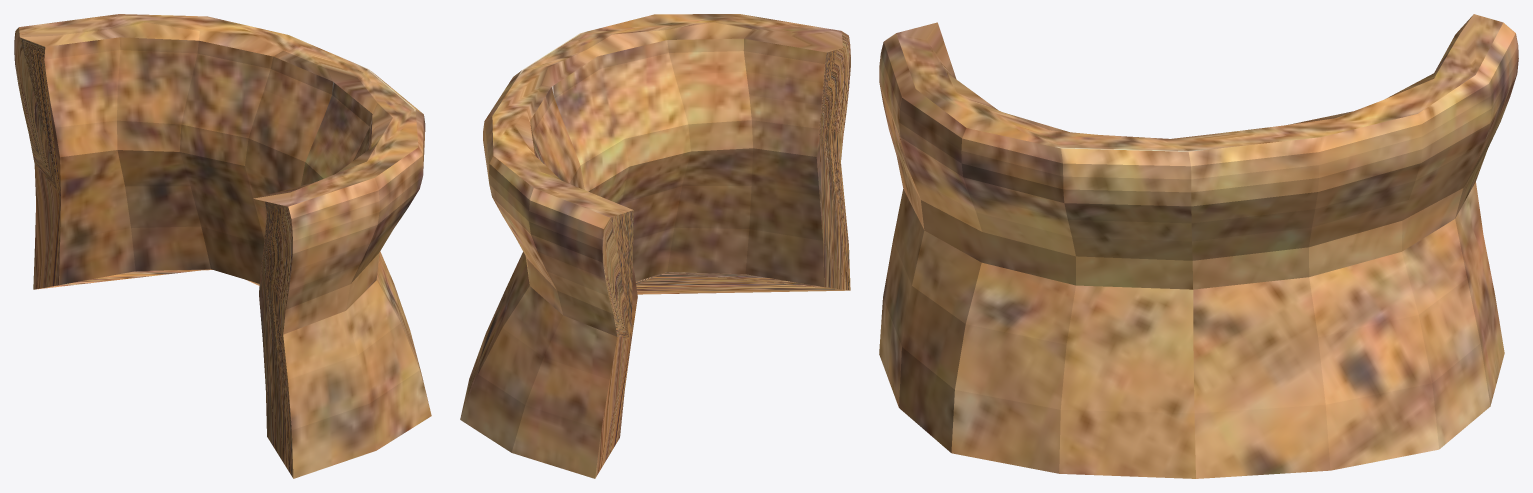
The model's file is mybeaker-rightup.obj.
The picture shows the model from 3 angles, left to right: view 1: azimuth 30°, elevation 25°; view 2: azimuth 150°, elevation 25°; view 3: azimuth 270°, elevation 25°; orthographic projection. The views are drawn at different scales.
Parts seen in each view (by area): view 1: Cylinder.002_Cylinder.004; view 2: Cylinder.002_Cylinder.004; view 3: Cylinder.002_Cylinder.004.
Part boxes in pixels (x1,y1,x2,y2): Cylinder.002_Cylinder.004: (14, 14, 431, 478); Cylinder.002_Cylinder.004: (460, 14, 850, 478); Cylinder.002_Cylinder.004: (879, 14, 1518, 478).
Size of the model in its own units: 0.2372 by 0.2529 by 0.4526.
1 material, 1 textured.
